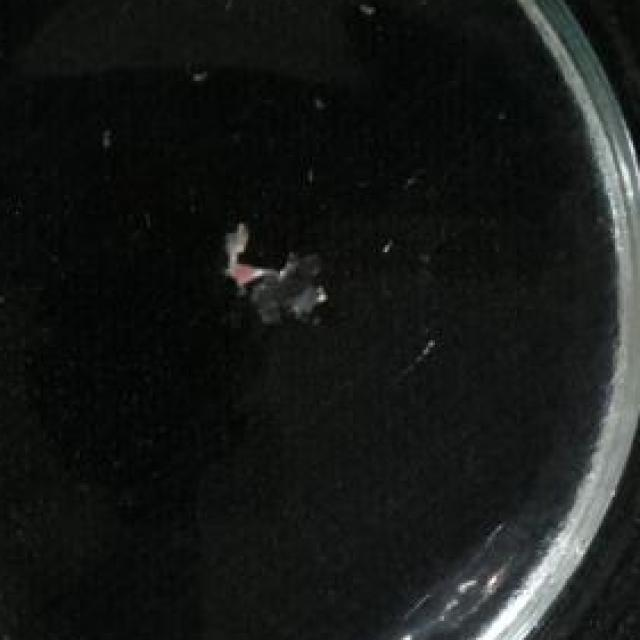Microplastic: (207, 190, 344, 333)
